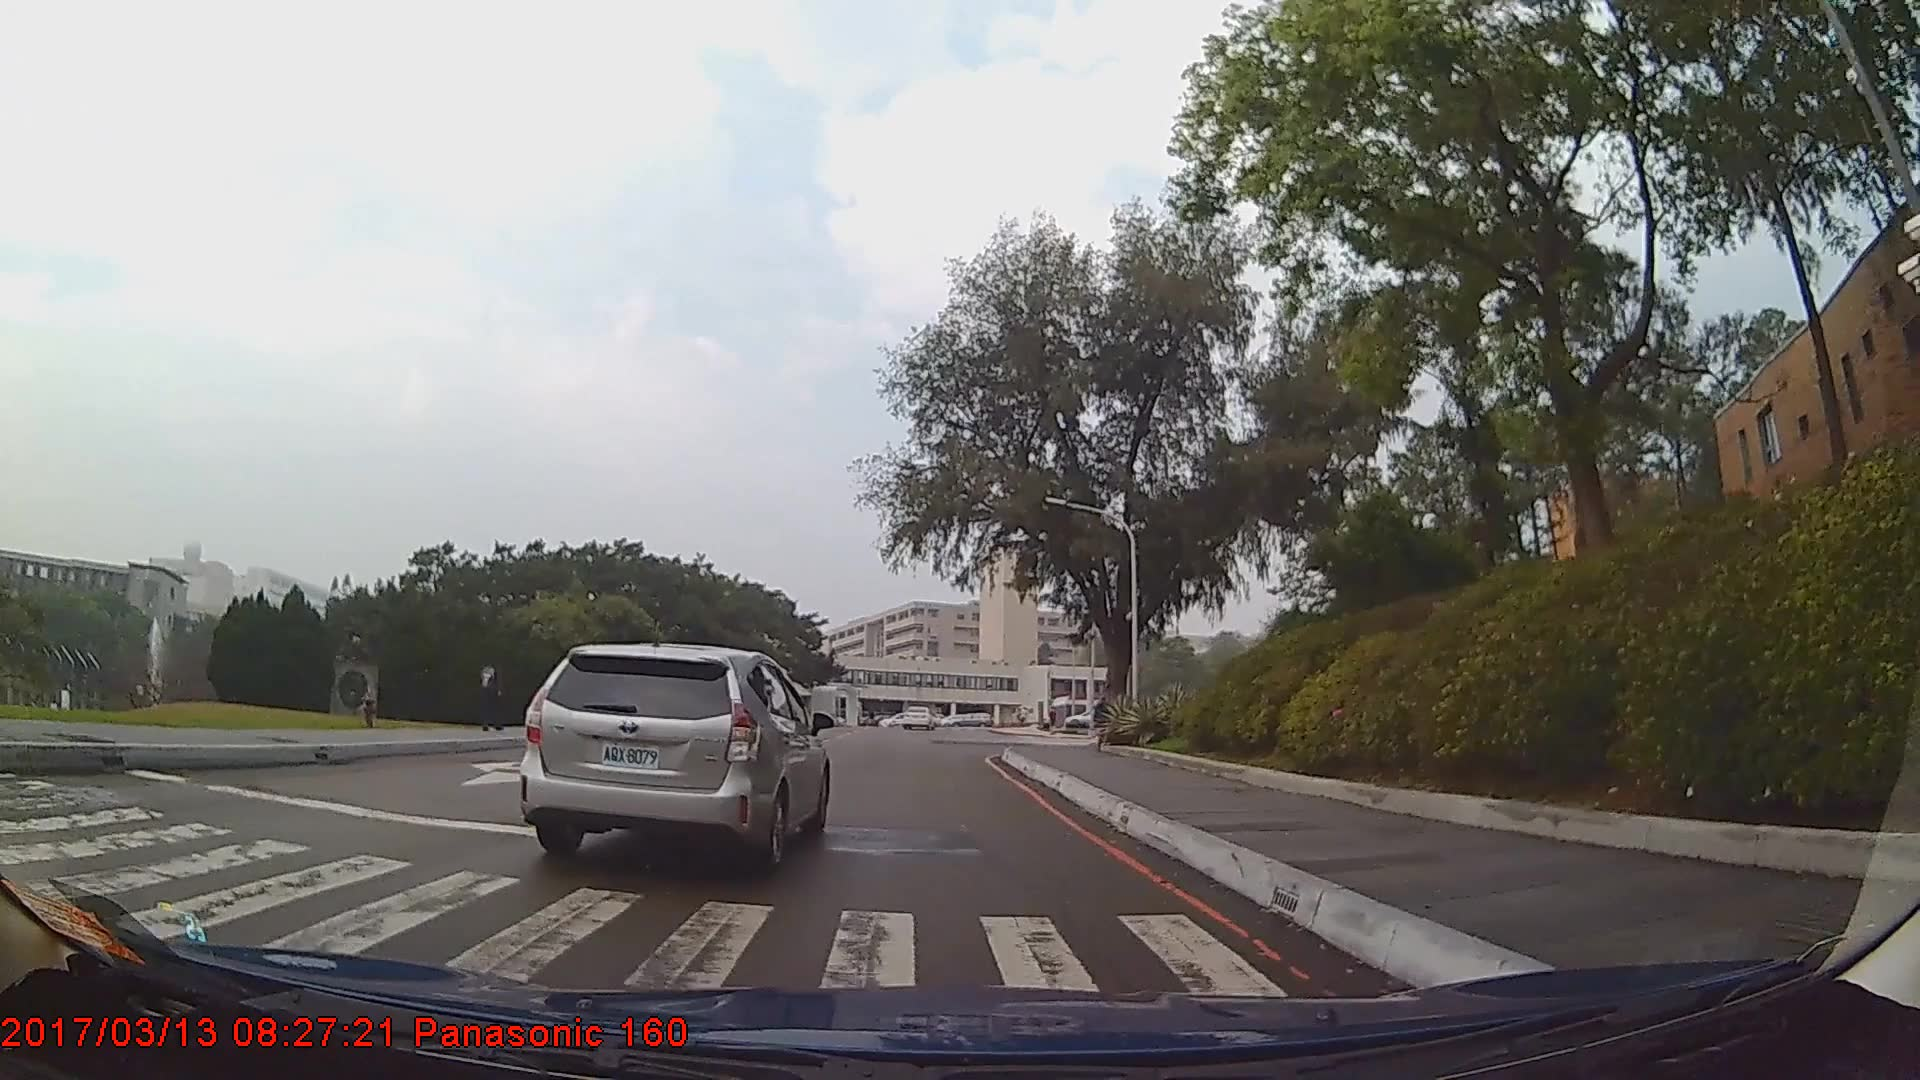pedestrian: (473, 657, 509, 735)
vehicle: (518, 639, 832, 876), (899, 704, 934, 731)
